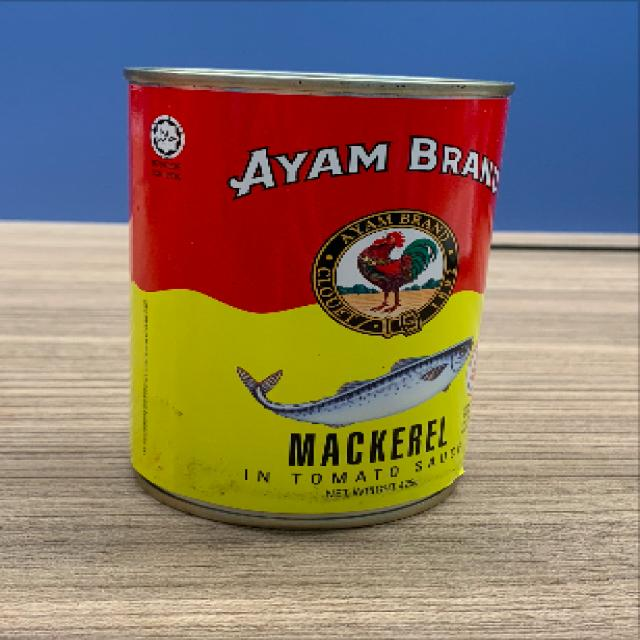object_name: (120, 63, 481, 506)
